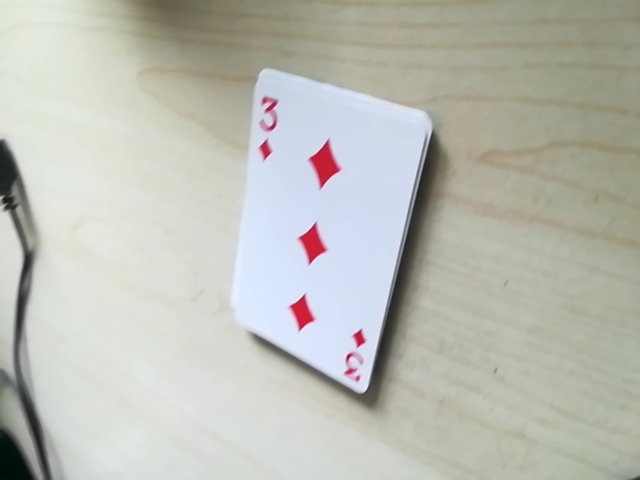fk 3: (249, 83, 284, 166), (331, 322, 367, 393)
